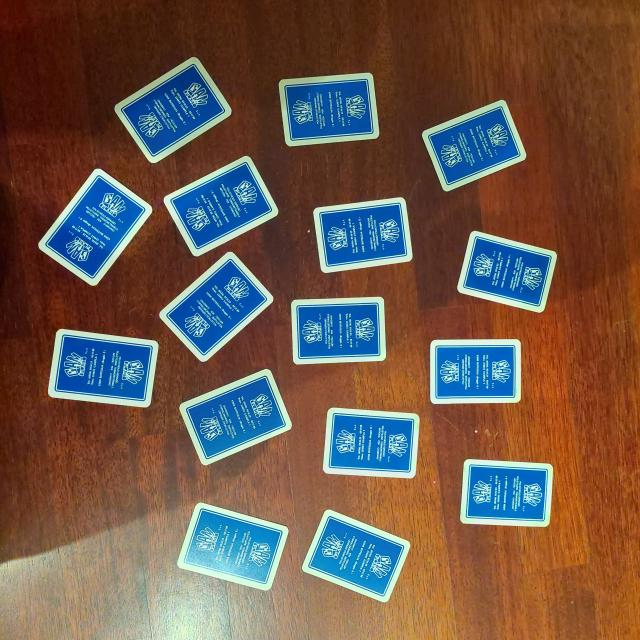card: (38, 168, 154, 286), (115, 56, 235, 165), (159, 252, 274, 363), (164, 156, 281, 257), (175, 500, 291, 594), (180, 369, 292, 466), (302, 508, 411, 606), (422, 98, 527, 192), (42, 327, 158, 411), (455, 228, 559, 318), (278, 70, 382, 148), (313, 196, 415, 275), (320, 405, 422, 481), (460, 454, 555, 532), (289, 294, 388, 366), (428, 338, 524, 406)
